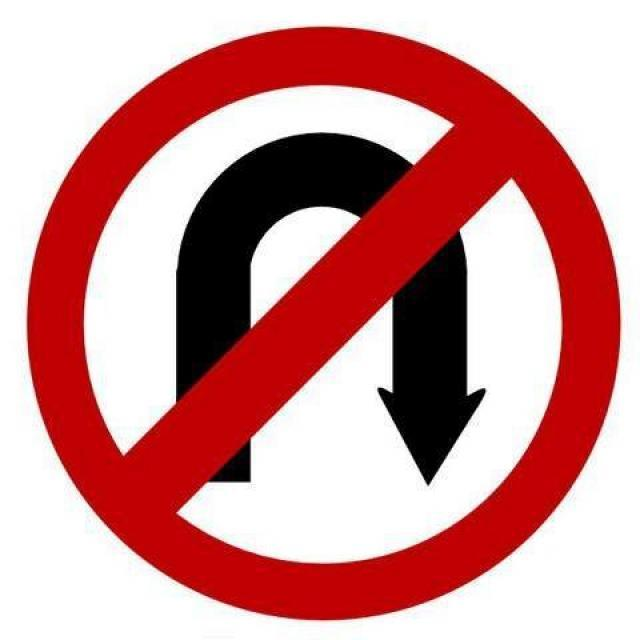Dilarang Putar Balik: (23, 19, 625, 625)
